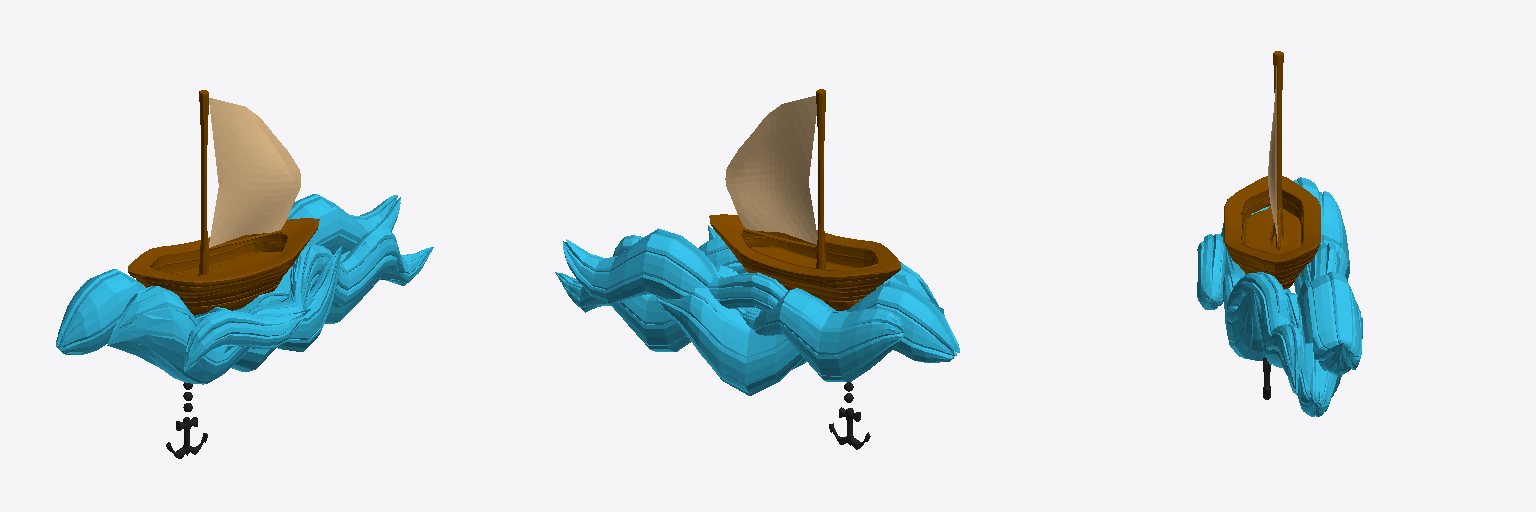
The picture shows the model from 3 angles: view 1: azimuth 30°, elevation 25°; view 2: azimuth 150°, elevation 25°; view 3: azimuth 270°, elevation 25°; orthographic projection.
Parts seen in each view (by area): view 1: polySurface12, pPlane1, pCylinder7, pCylinder3, pCylinder9, pCylinder1, pCylinder4, pCylinder2, pCylinder5, pCylinder8, pCube4; view 2: polySurface12, pPlane1, pCylinder10, pCylinder6, pCylinder4, pCylinder9, pCylinder5, pCylinder11, pCylinder3, pCylinder7, pCube4; view 3: polySurface12, pCylinder4, pCylinder3, pCylinder2, pCylinder5, pCylinder1, pCylinder10, pPlane1, pCylinder11.
Boxes of the visible parts, box(x1,y1,x2,y2) form: polySurface12: box(128, 90, 319, 315); pPlane1: box(209, 98, 300, 247); pCylinder7: box(107, 286, 289, 384); pCylinder3: box(289, 228, 405, 310); pCylinder9: box(56, 269, 145, 354); pCylinder1: box(184, 309, 310, 371); pCylinder4: box(287, 194, 400, 254); pCylinder2: box(224, 244, 342, 352); pCylinder5: box(325, 247, 433, 323); pCylinder8: box(194, 267, 291, 371); pCube4: box(166, 417, 207, 458); polySurface12: box(709, 89, 900, 310); pPlane1: box(725, 96, 817, 244); pCylinder10: box(736, 288, 903, 381); pCylinder6: box(656, 287, 803, 395); pCylinder4: box(563, 228, 719, 303); pCylinder9: box(837, 281, 959, 362); pCylinder5: box(555, 272, 690, 351); pCylinder11: box(706, 272, 787, 311); pCylinder3: box(613, 235, 747, 273); pCylinder7: box(876, 262, 944, 315); pCube4: box(829, 407, 870, 449); polySurface12: box(1224, 51, 1320, 289); pCylinder4: box(1297, 271, 1361, 375); pCylinder3: box(1227, 272, 1304, 393); pCylinder2: box(1223, 274, 1265, 360); pCylinder5: box(1288, 325, 1341, 416); pCylinder1: box(1197, 234, 1226, 309); pCylinder10: box(1300, 191, 1349, 283); pPlane1: box(1268, 66, 1277, 240); pCylinder11: box(1311, 243, 1339, 280).
Bounding box in the file's own units: 34.98 × 30.3 × 12.91.
Materials: 4 (4 with a texture image).